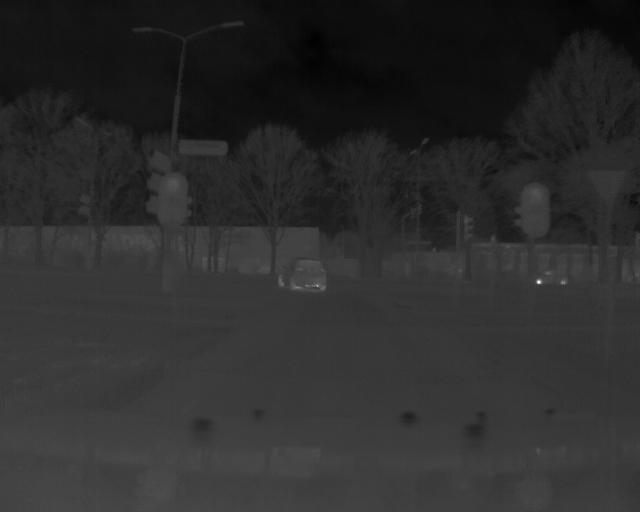car: (274, 256, 332, 295), (534, 267, 568, 288)
